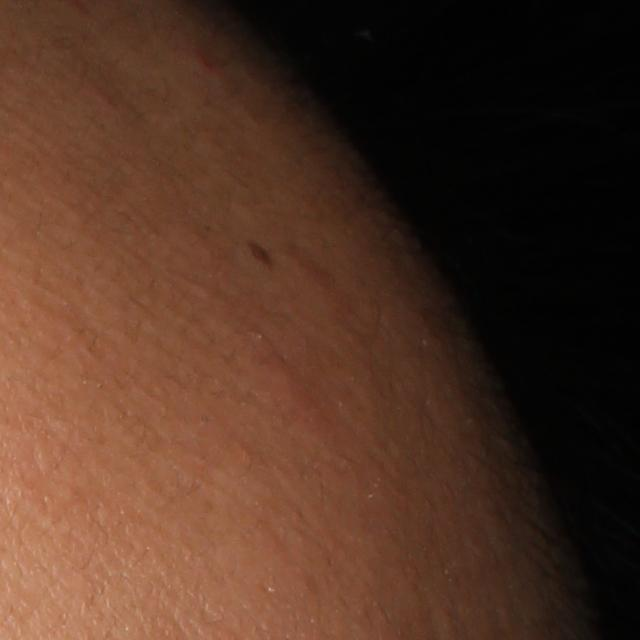nevus: (242, 236, 274, 274)
